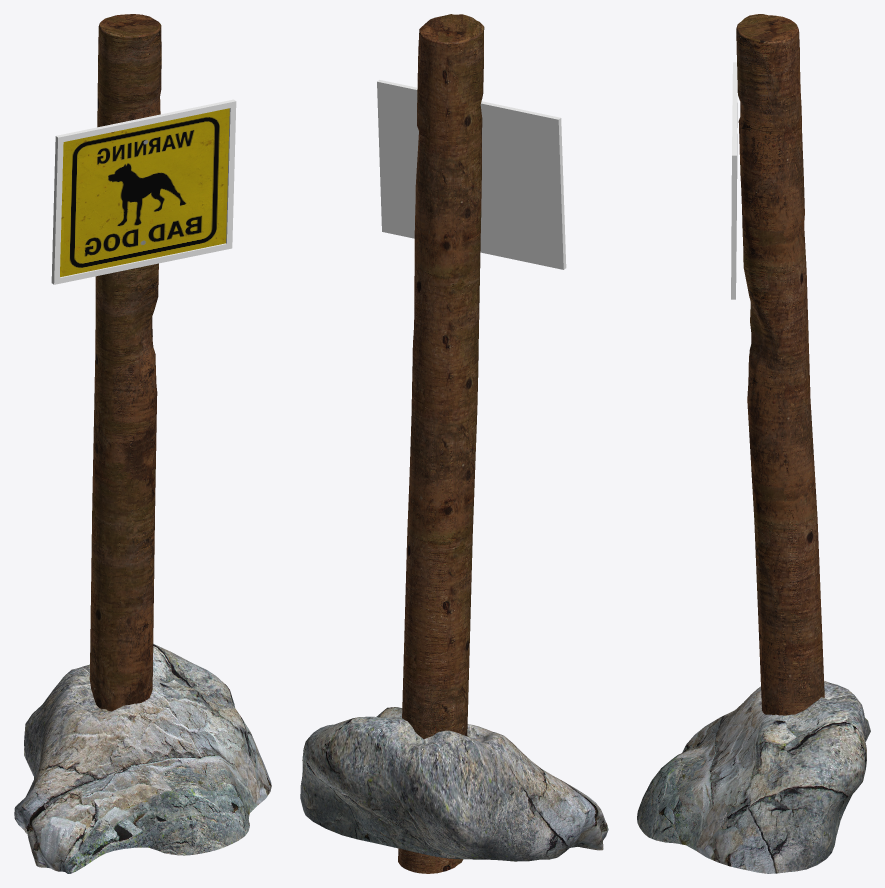
The model's file is objSign.obj.
The picture shows the model from 3 angles, left to right: view 1: azimuth 30°, elevation 25°; view 2: azimuth 150°, elevation 25°; view 3: azimuth 270°, elevation 25°; orthographic projection. The views are drawn at different scales.
Parts seen in each view (by area): view 1: sign sign, sign rock; view 2: sign sign, sign rock; view 3: sign sign, sign rock.
Part boxes in pixels (x1,y1,x2,y2): sign sign: (51,14,236,711); sign rock: (14,644,271,873); sign sign: (377,14,566,873); sign rock: (300,707,608,861); sign sign: (731,14,824,715); sign rock: (637,680,870,873).
Size of the model in its own units: 3.58 by 10.69 by 2.82.
4 materials, 3 textured.
